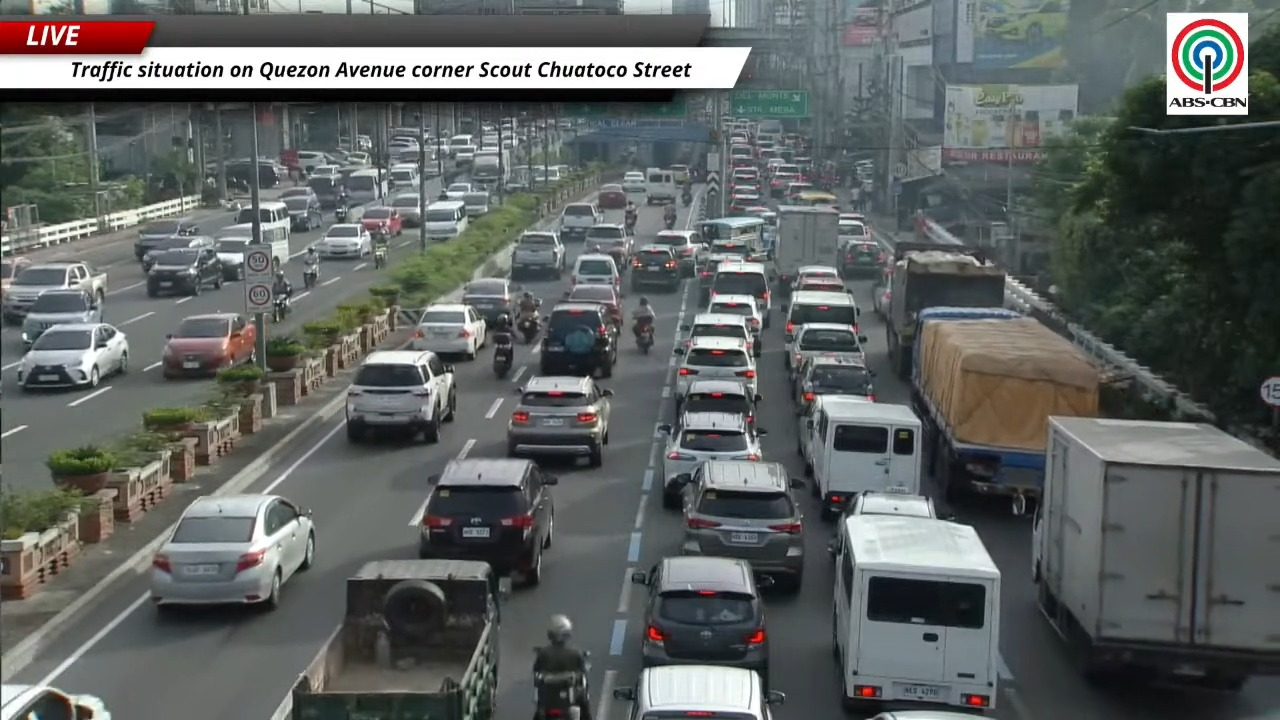car: (150, 494, 315, 609), (418, 458, 557, 586), (633, 557, 768, 684), (677, 459, 804, 592), (345, 350, 456, 442), (658, 412, 764, 507), (507, 376, 612, 466), (17, 323, 128, 389), (162, 313, 256, 378), (540, 302, 616, 377), (675, 337, 757, 400), (22, 288, 102, 347), (787, 323, 866, 379), (409, 303, 486, 360), (793, 353, 874, 407), (146, 245, 224, 297), (0, 683, 110, 719), (677, 379, 761, 426), (835, 491, 938, 528), (680, 313, 759, 356), (705, 294, 764, 344), (462, 278, 522, 325), (140, 236, 215, 272), (564, 284, 623, 328), (511, 230, 565, 278), (134, 219, 198, 259), (843, 491, 937, 518), (650, 230, 702, 278), (630, 245, 681, 291), (698, 252, 740, 305), (585, 223, 632, 270), (313, 223, 371, 258), (571, 253, 621, 293), (796, 396, 820, 475), (281, 187, 323, 231), (841, 240, 885, 277), (214, 235, 250, 280), (559, 202, 602, 239), (360, 206, 402, 236), (0, 255, 32, 292), (390, 192, 421, 227), (388, 163, 420, 192), (769, 169, 799, 198), (795, 265, 839, 283), (838, 220, 871, 244), (794, 276, 846, 291), (729, 188, 760, 213), (597, 184, 627, 208), (784, 181, 814, 202), (873, 283, 890, 317), (621, 171, 646, 192), (838, 212, 869, 228), (445, 182, 473, 199), (344, 151, 371, 167), (308, 164, 339, 177), (669, 164, 689, 184)
motorcycle: (533, 672, 587, 719), (492, 338, 513, 378), (633, 323, 653, 353), (517, 317, 539, 344), (272, 294, 290, 323), (303, 262, 318, 288), (373, 243, 387, 268), (624, 213, 637, 235), (335, 206, 348, 224), (664, 215, 676, 230), (682, 192, 692, 206)
truck: (1032, 417, 1279, 691), (910, 307, 1101, 514), (290, 559, 508, 719), (885, 242, 1006, 379), (0, 261, 106, 321), (772, 205, 838, 288), (470, 149, 510, 191), (506, 165, 530, 191)
